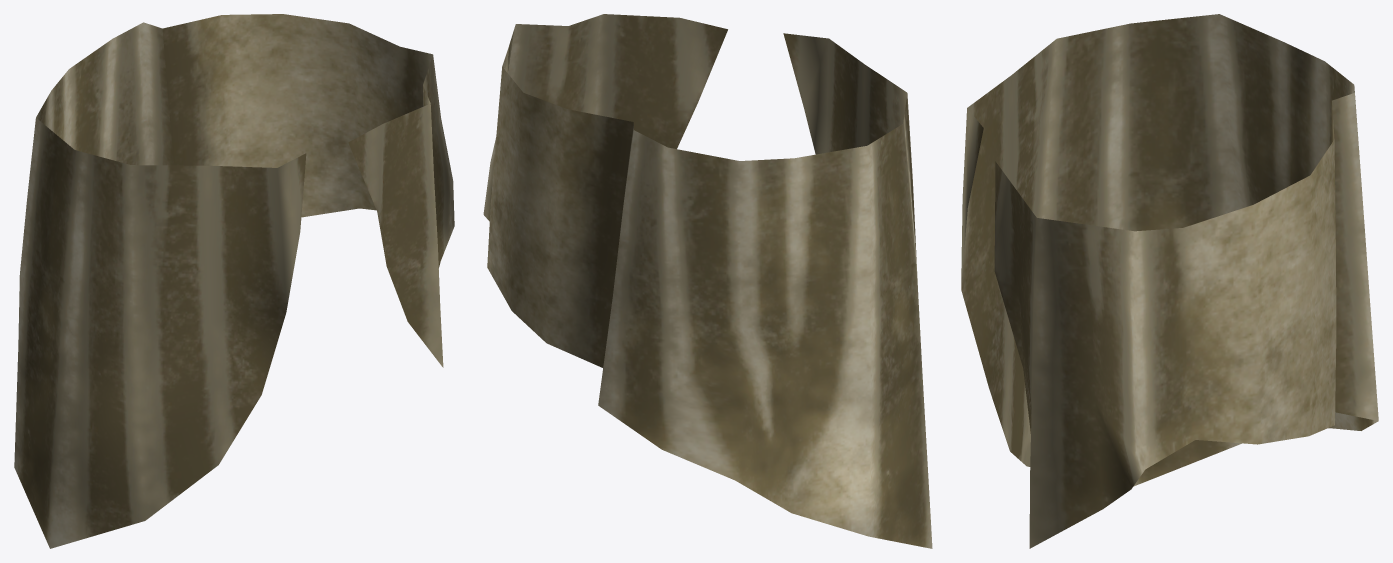
Rendered from clo_dunland_caerdh_chainmail_light.fbx.
3 renders of one model, left to right at view 1: azimuth 30°, elevation 25°; view 2: azimuth 150°, elevation 25°; view 3: azimuth 270°, elevation 25°, orthographic. The views are drawn at different scales.
Visible parts, largest first — view 1: clo_dunland_caerdh_chainmail_light; view 2: clo_dunland_caerdh_chainmail_light; view 3: clo_dunland_caerdh_chainmail_light.
Part boxes in pixels (bbox=[...]): clo_dunland_caerdh_chainmail_light: bbox=[14, 14, 454, 548]; clo_dunland_caerdh_chainmail_light: bbox=[483, 14, 932, 548]; clo_dunland_caerdh_chainmail_light: bbox=[961, 14, 1378, 548].
Bounding box in the file's own units: 0.4987 × 0.3567 × 0.4784.
1 material, 1 textured.
